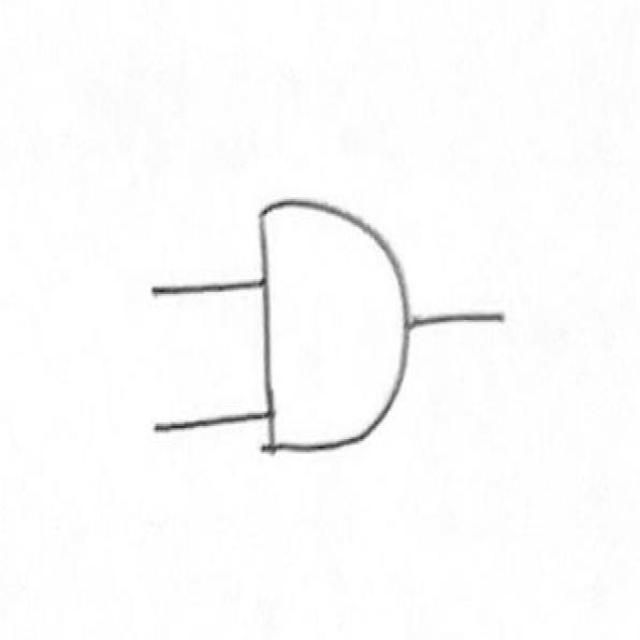AND: (241, 159, 442, 525)
